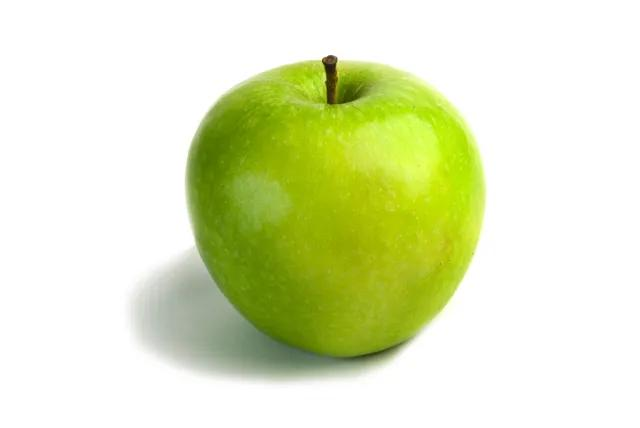non-mango: (184, 54, 486, 358)
